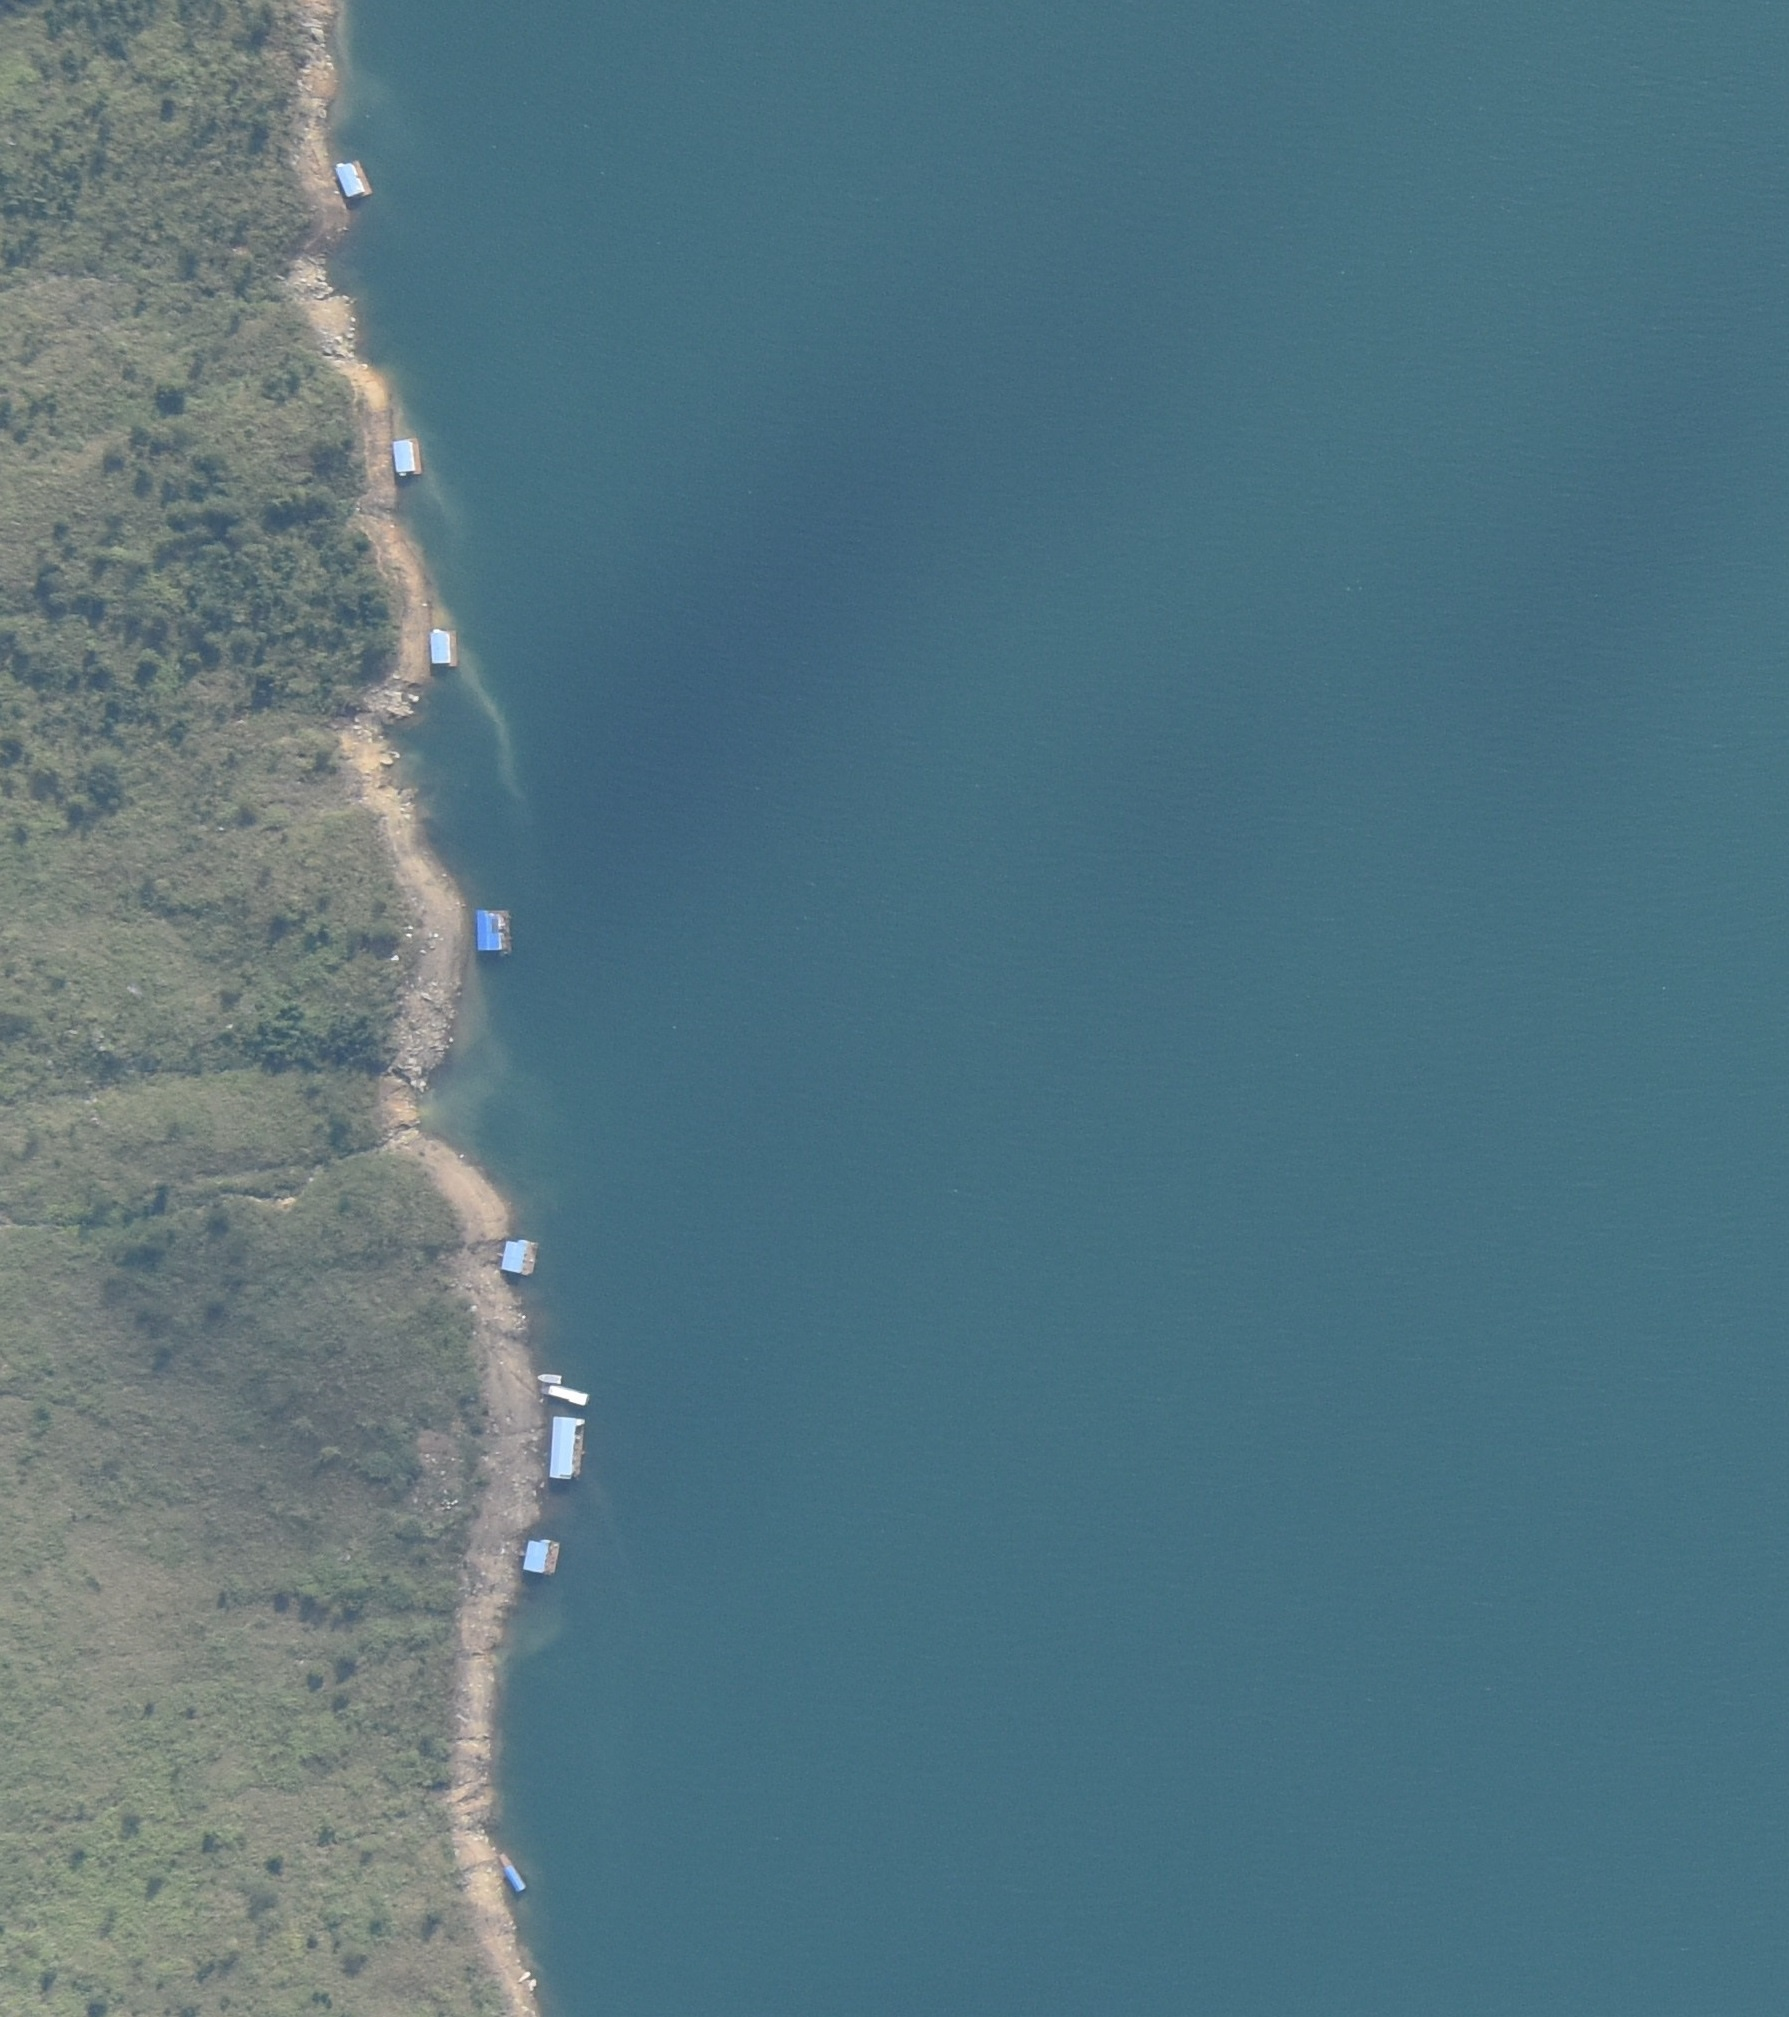prefabricated-house: (547, 1416, 584, 1478), (475, 908, 509, 953), (335, 159, 371, 197), (499, 1238, 537, 1274), (523, 1540, 558, 1577), (394, 439, 421, 478), (432, 630, 458, 665)
ship: (497, 1853, 527, 1893), (542, 1383, 589, 1407), (539, 1373, 561, 1383)
